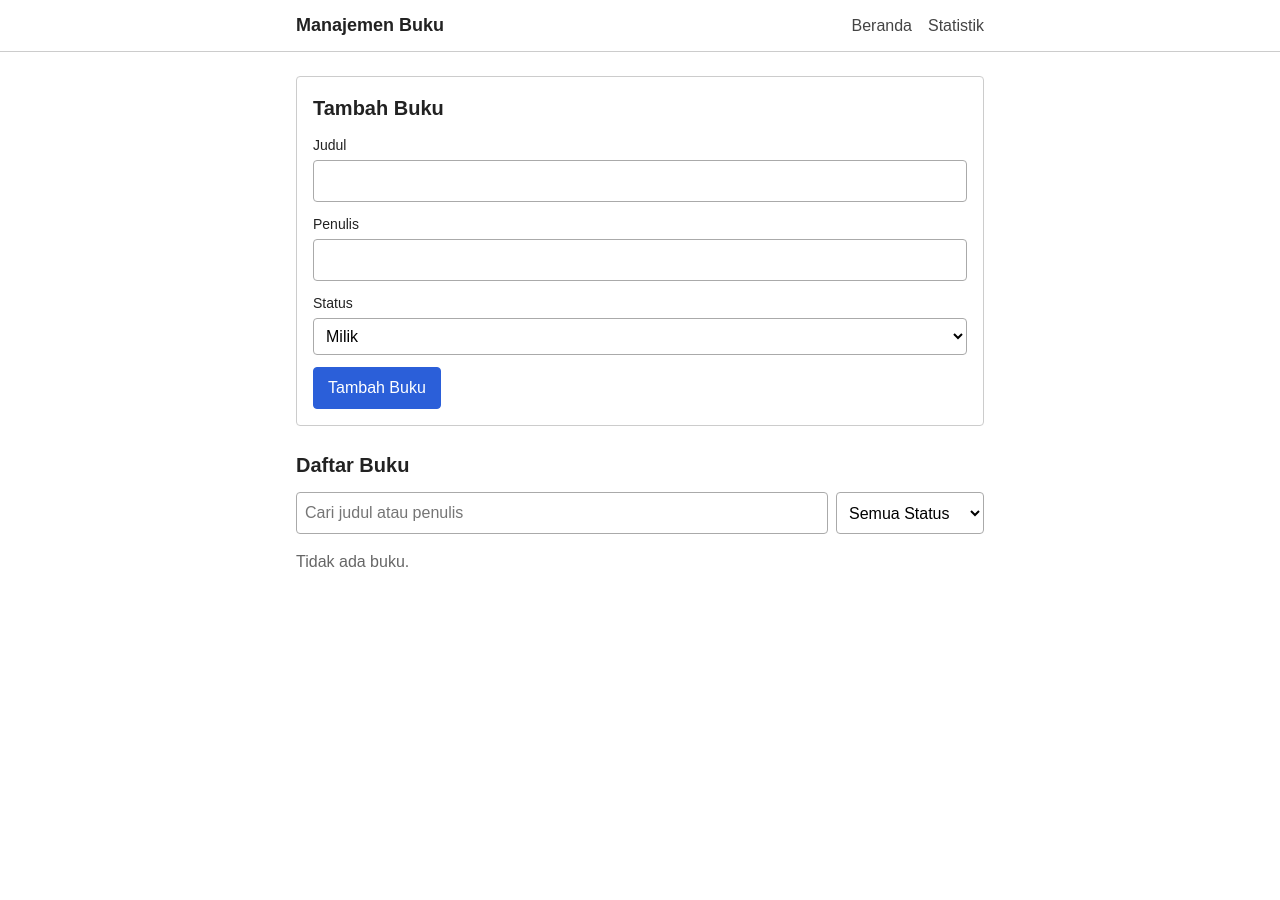
Test: Aplikasi Manajemen Buku › menambah buku baru dan menyimpannya ke localStorage
This screenshot has width=1280, height=900.
Step 1. Type "Negeri 5 Menara" into the field labelled "Judul" → (640, 181), box [313,160,967,202]
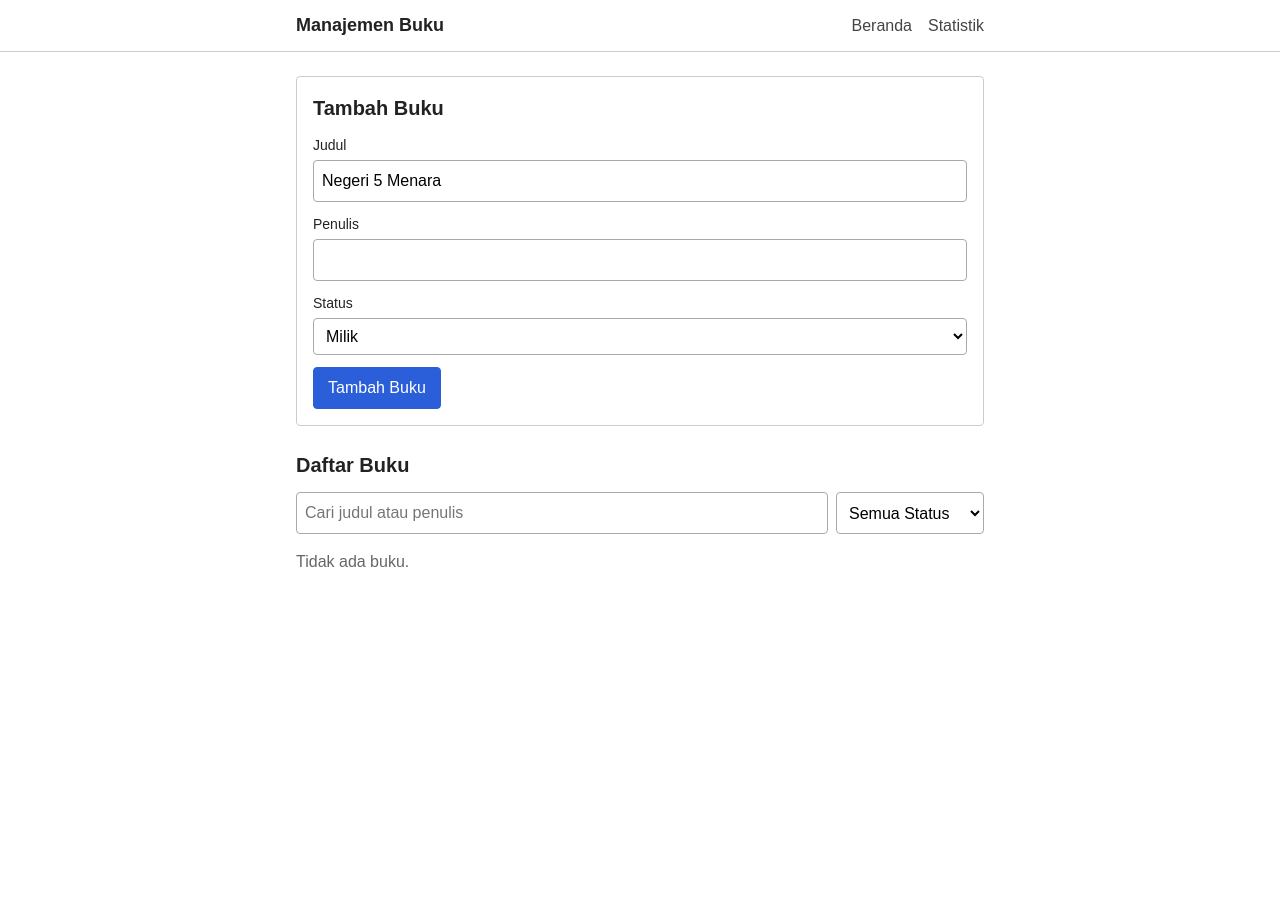
Step 2. Type "Ahmad Fuadi" into the field labelled "Penulis" → (640, 260), box [313,239,967,281]
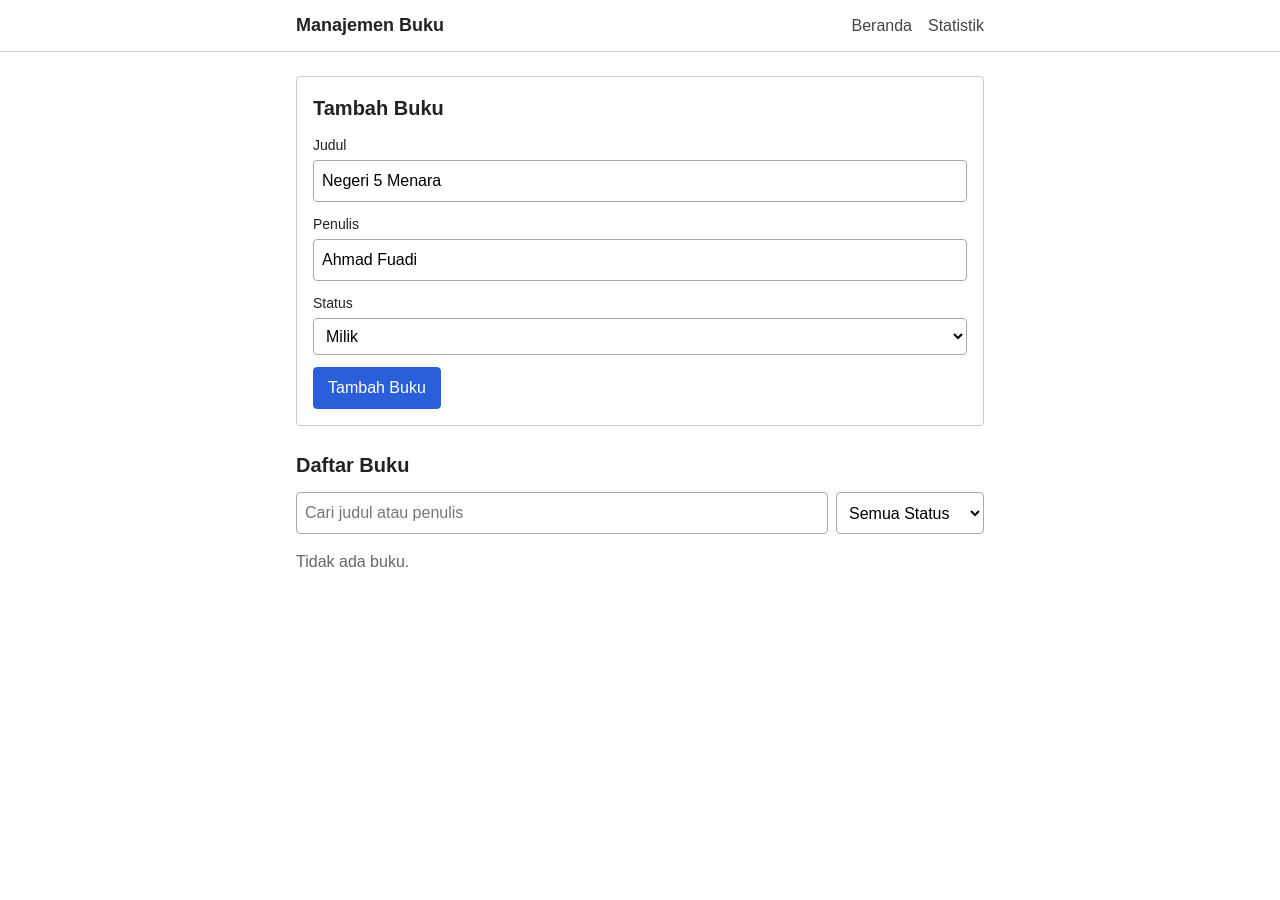
Step 3. Click the button "Tambah Buku" → (377, 388), box [313,367,441,409]
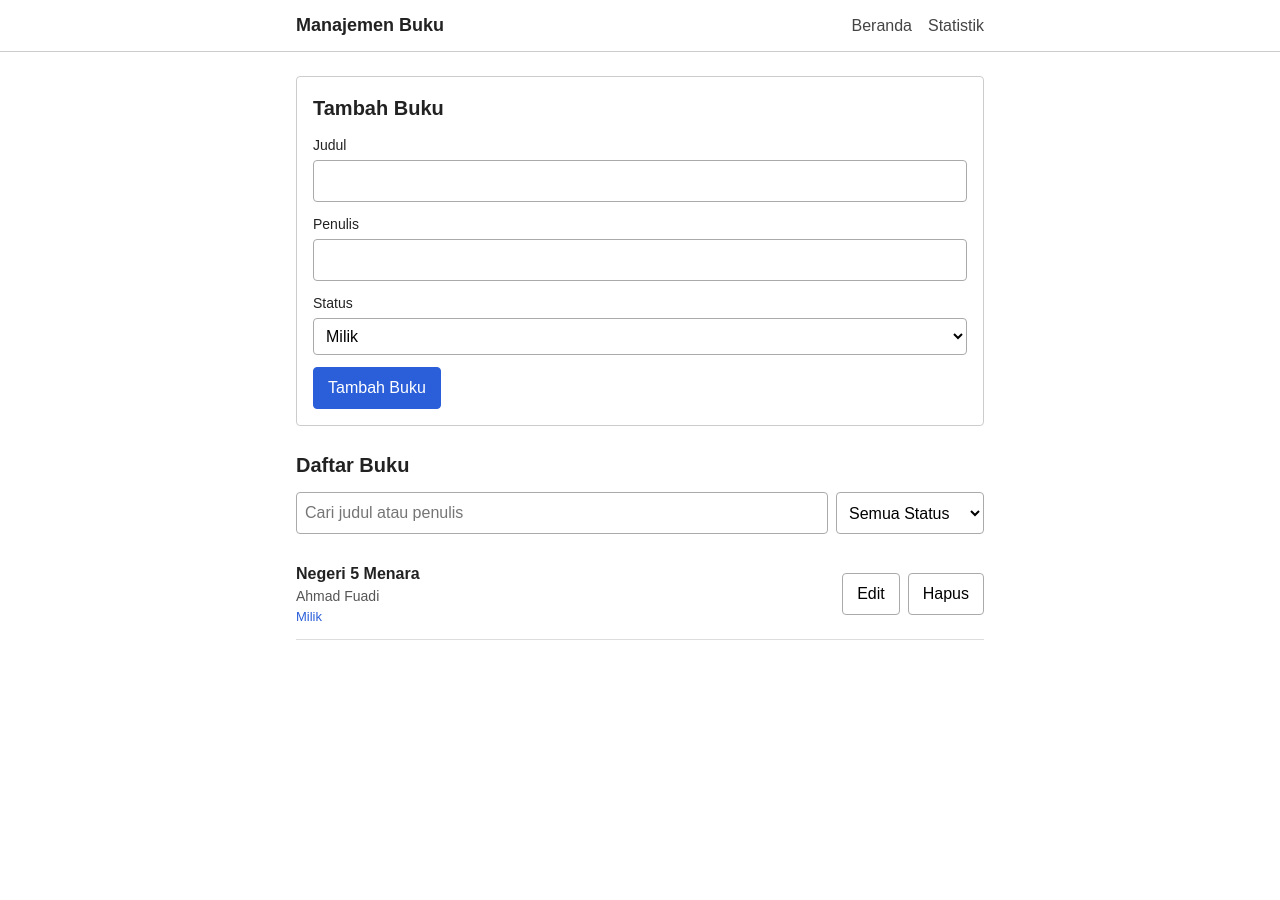
Expected: the text "Negeri 5 Menara" is shown, [296,562,420,586]
